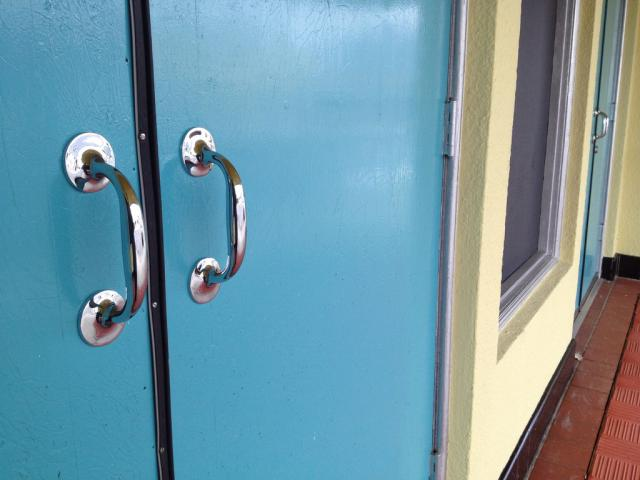Door-handle: (62, 130, 150, 348), (179, 126, 244, 304), (593, 108, 610, 145), (592, 107, 606, 146)
